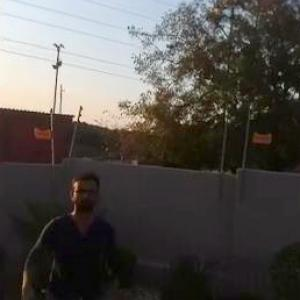follow: (13, 164, 126, 299)
